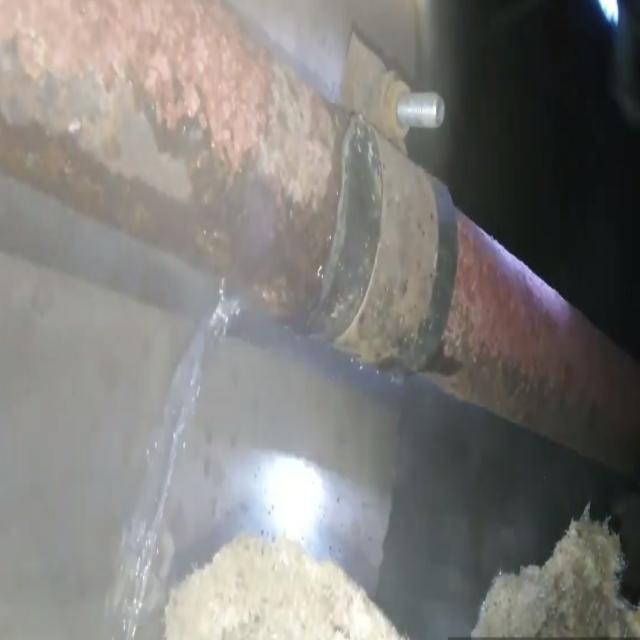leak: (108, 290, 240, 638)
